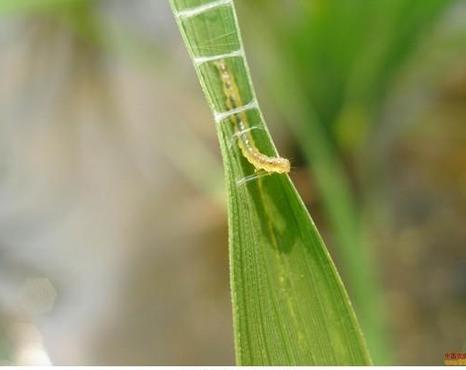pest: (214, 58, 291, 175)
